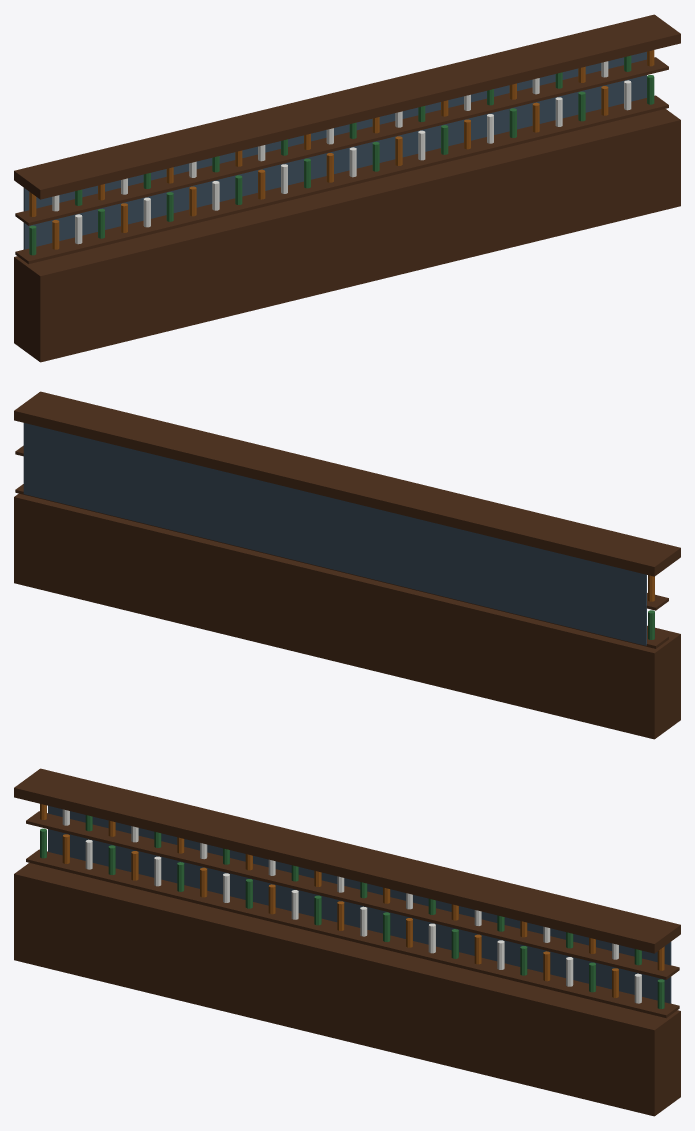
The model's file is back bar.glb.
3 views of the same model, one above another, from view 1: azimuth 30°, elevation 25°; view 2: azimuth 150°, elevation 25°; view 3: azimuth 330°, elevation 25° (orthographic).
Visible parts, largest first — view 1: back bar; view 2: back bar; view 3: back bar.
Part boxes in pixels (x1,y1,x2,y2): back bar: (14, 14, 680, 362); back bar: (14, 391, 680, 739); back bar: (14, 768, 680, 1116).
Size of the model in its own units: 7 by 1.8 by 0.5.
